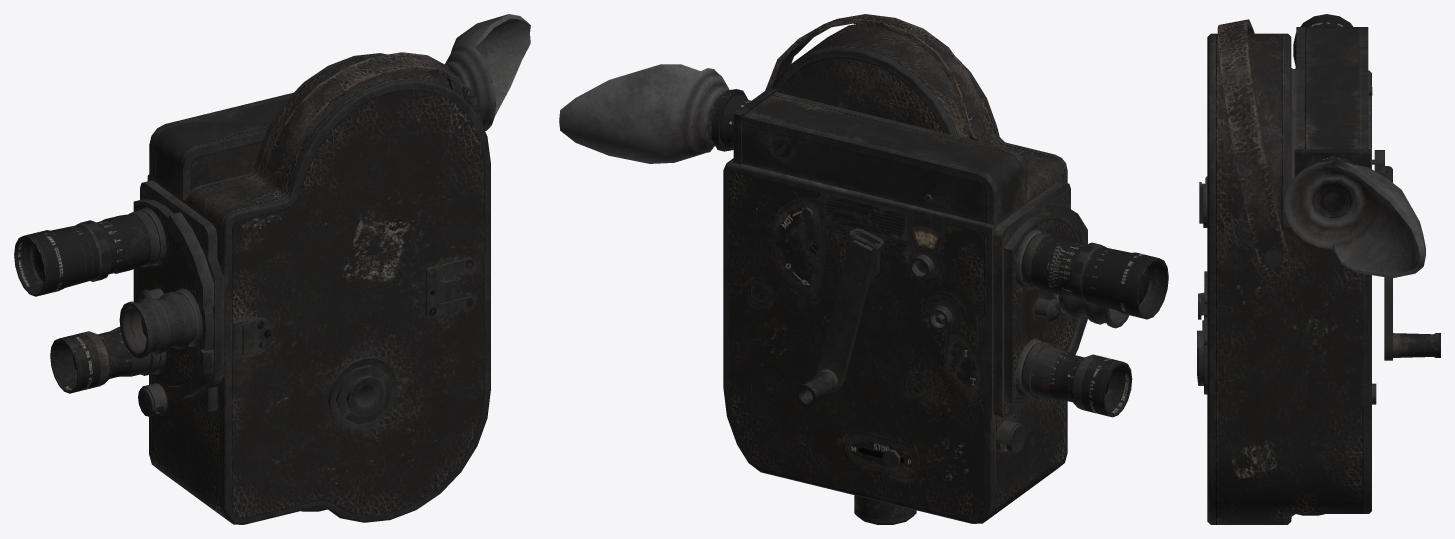
The model's file is camera_fin.dae.
3 views of the same model, side by side, from view 1: azimuth 30°, elevation 25°; view 2: azimuth 150°, elevation 25°; view 3: azimuth 270°, elevation 25° (orthographic). The views are drawn at different scales.
Parts seen in each view (by area): view 1: camera_fin; view 2: camera_fin; view 3: camera_fin.
Boxes of the visible parts, x1=… form: camera_fin: x1=14, y1=14, x2=530, y2=524; camera_fin: x1=559, y1=14, x2=1168, y2=524; camera_fin: x1=1197, y1=14, x2=1440, y2=524.
Size of the model in its own units: 0.3503 by 0.281 by 0.127.
